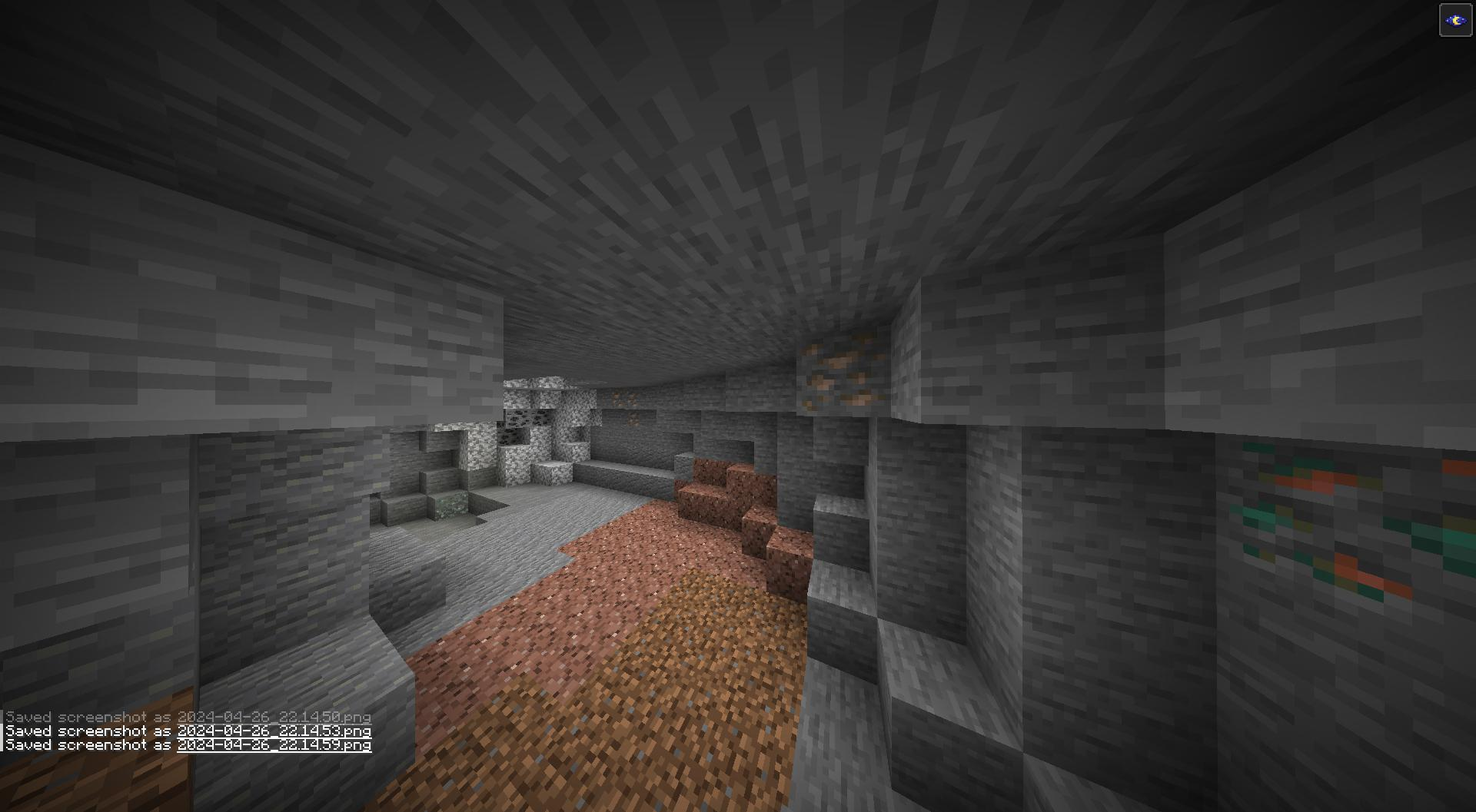iron ore: (792, 334, 886, 418), (602, 386, 642, 426)
